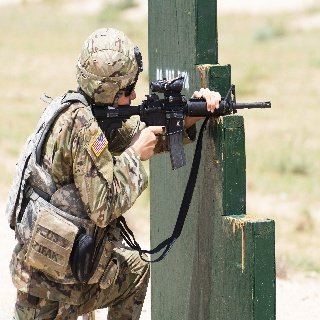rifle: (91, 75, 272, 171)
